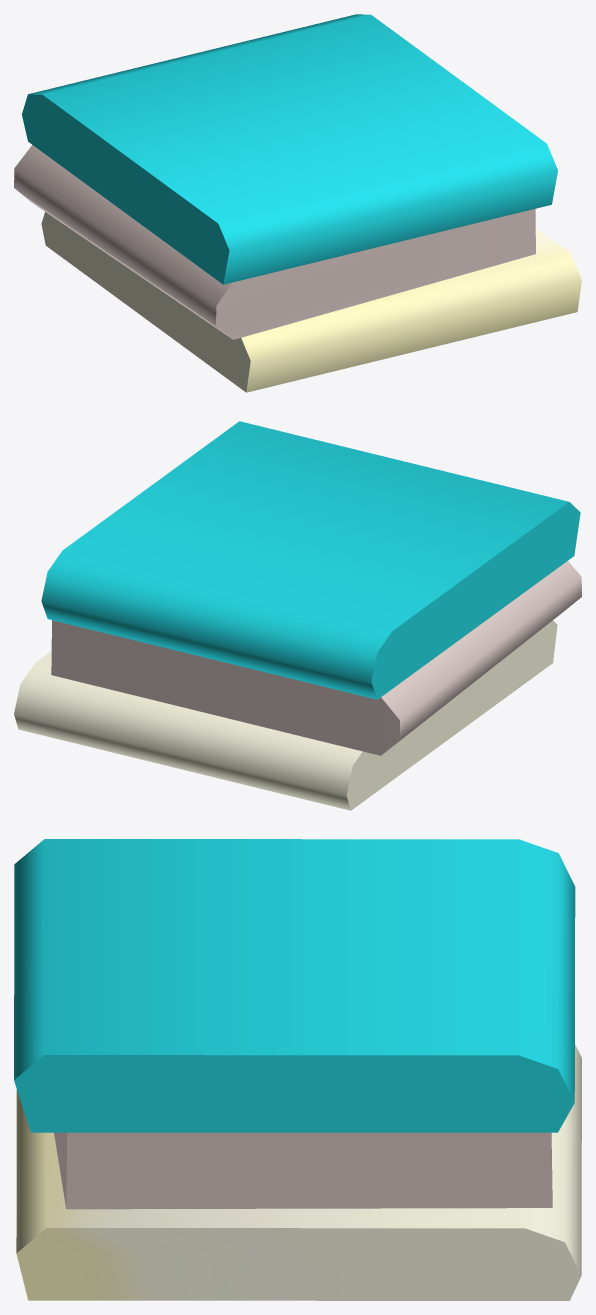
The model's file is shop_044.glb.
The picture shows the model from 3 angles, top to bottom: view 1: azimuth 30°, elevation 25°; view 2: azimuth 150°, elevation 25°; view 3: azimuth 270°, elevation 25°; orthographic projection. The views are drawn at different scales.
Parts seen in each view (by area): view 1: shop_044; view 2: shop_044; view 3: shop_044.
Part boxes in pixels (<box>): shop_044: <box>14,14,581,392</box>; shop_044: <box>14,421,581,810</box>; shop_044: <box>14,839,581,1300</box>.
Bounding box in the file's own units: 0.4102 × 0.1796 × 0.4031.
1 material, 1 textured.
